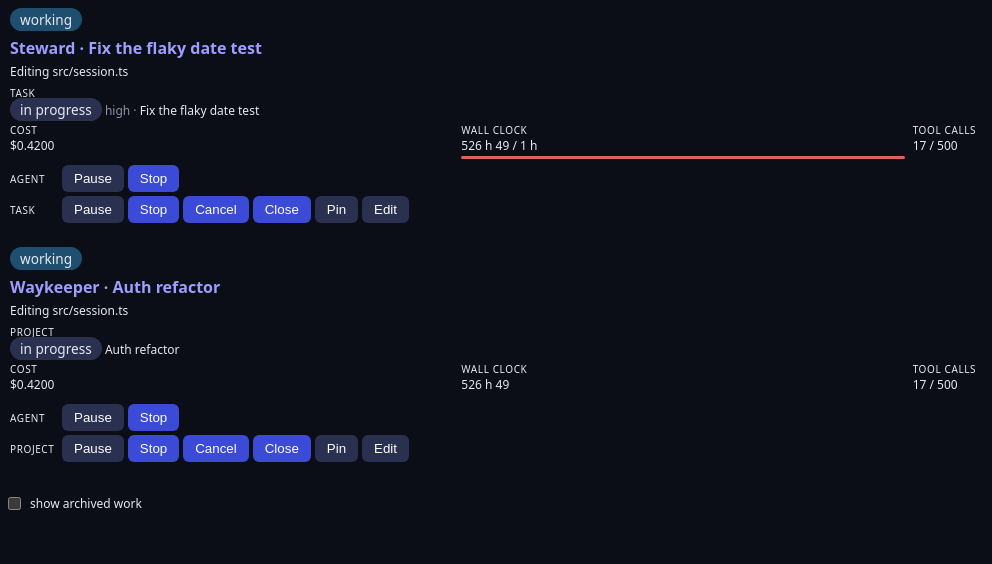
Test case: managed-agents cards: every control action of SPEC §4.3 (P25-04) › edits a task’s description and priority
The width and height of the screenshot is (992, 564).
Click the button "Edit" below "526 h 49 / 1 h".
click(386, 210)  # box [362,196,409,223]
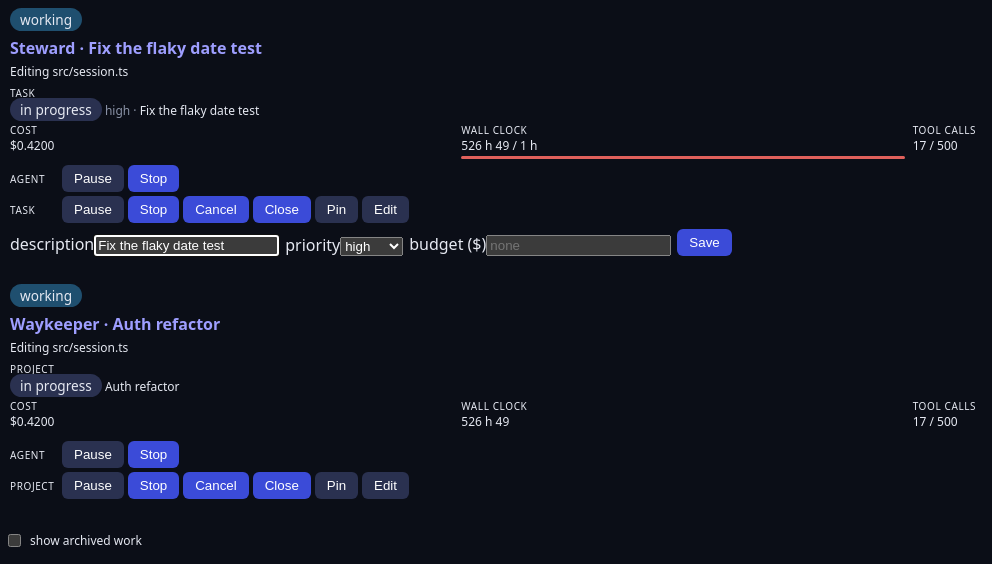
Replace the text in the field labelled "description" with "Fix the flaky date test for good" at (187, 246), box [94,235,279,256]
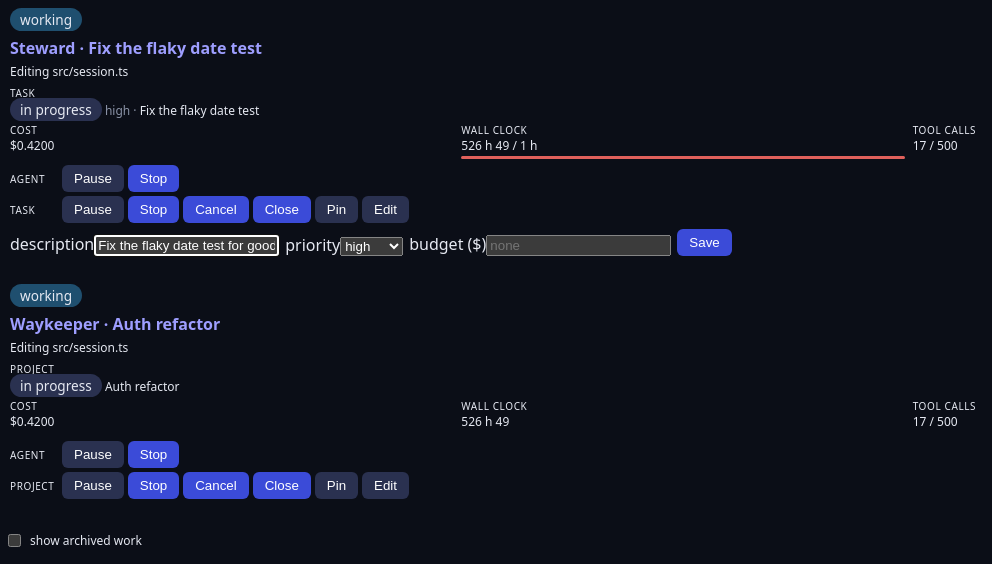
Select "low" in the dropdown labelled "priority" at (372, 246), box [340,237,403,256]
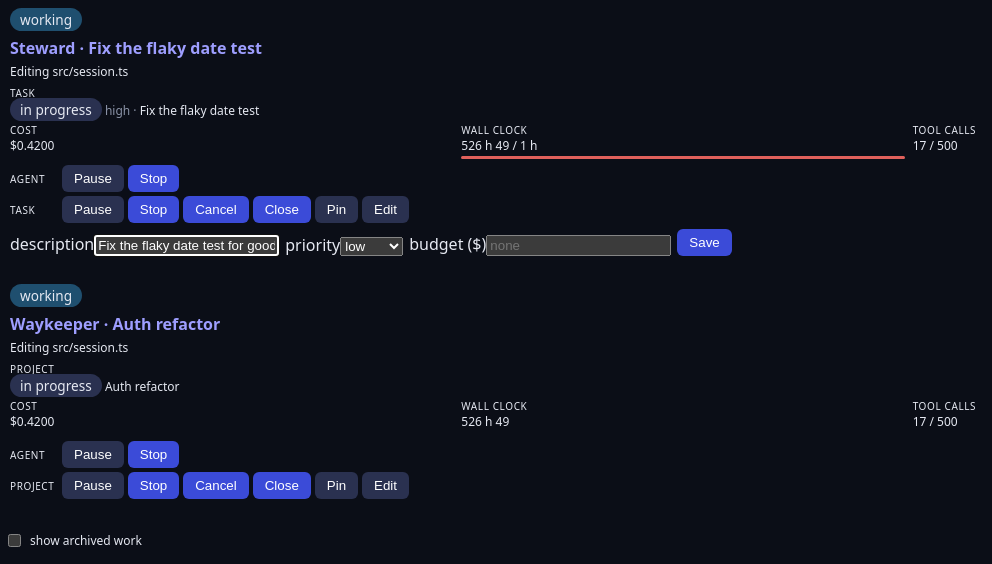
Click the button "Save".
click(704, 242)  # box [677,229,732,256]
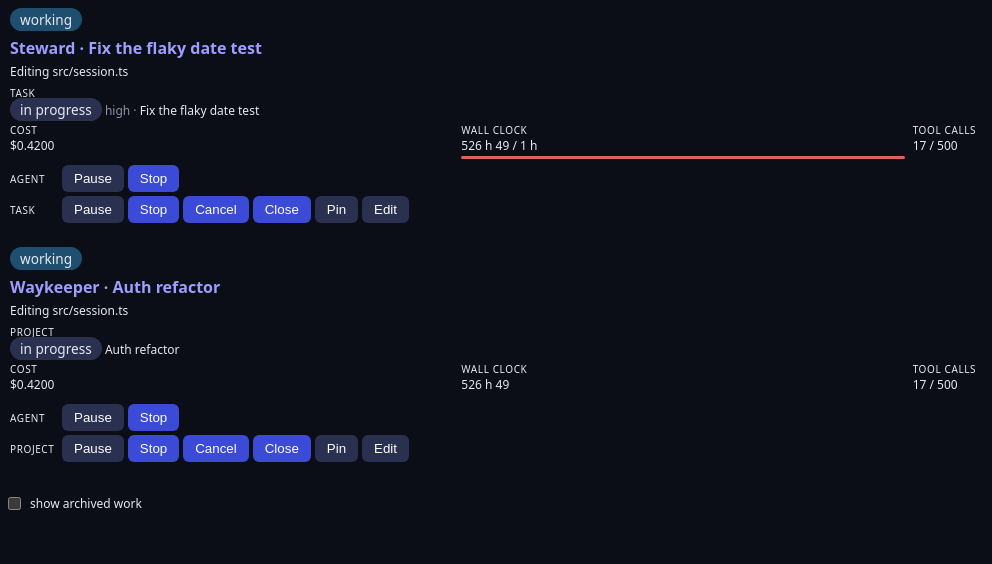
Now the button "Save" is gone
